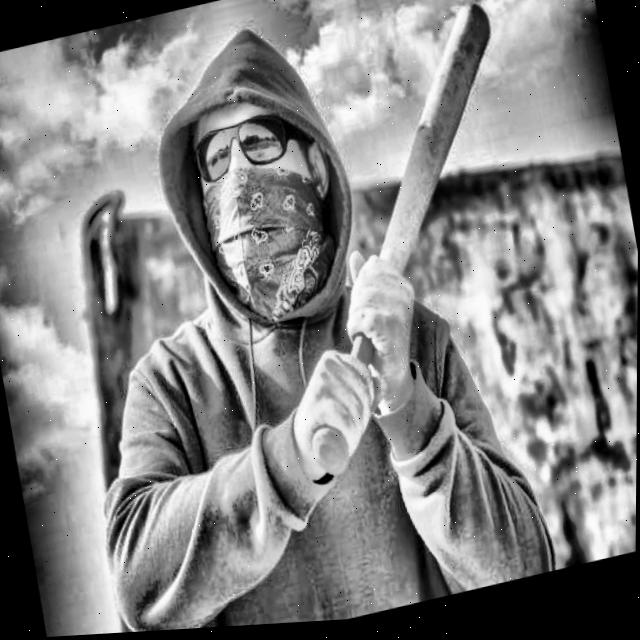tongkat pemukul: (293, 0, 498, 498)
